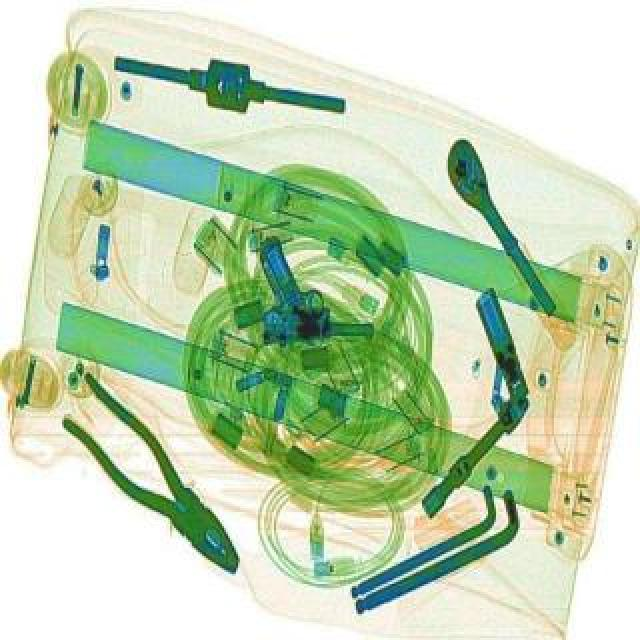gun: (258, 232, 378, 346)
wrench: (46, 364, 268, 588)
